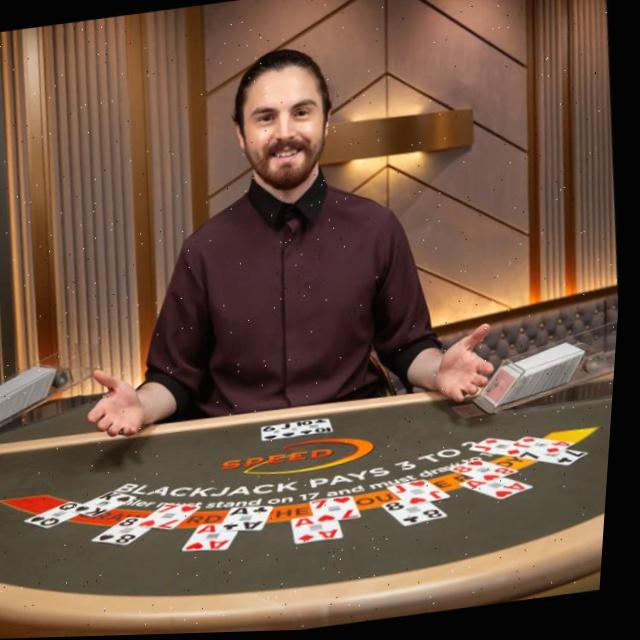Card-10: (303, 420, 338, 436)
Card-4: (523, 440, 579, 457)
Card-6: (267, 426, 287, 440)
Card-7: (146, 504, 206, 531), (317, 498, 368, 522), (526, 452, 593, 468)
Card-8: (389, 502, 454, 528), (99, 516, 158, 544), (456, 461, 524, 485)
Card-A: (466, 479, 539, 502), (189, 524, 244, 550), (299, 517, 348, 545), (228, 506, 279, 532)
Card-J: (393, 481, 456, 509), (475, 439, 537, 462), (286, 423, 303, 439)
Card-K: (80, 490, 143, 519)
Card-Q: (31, 500, 88, 528)
